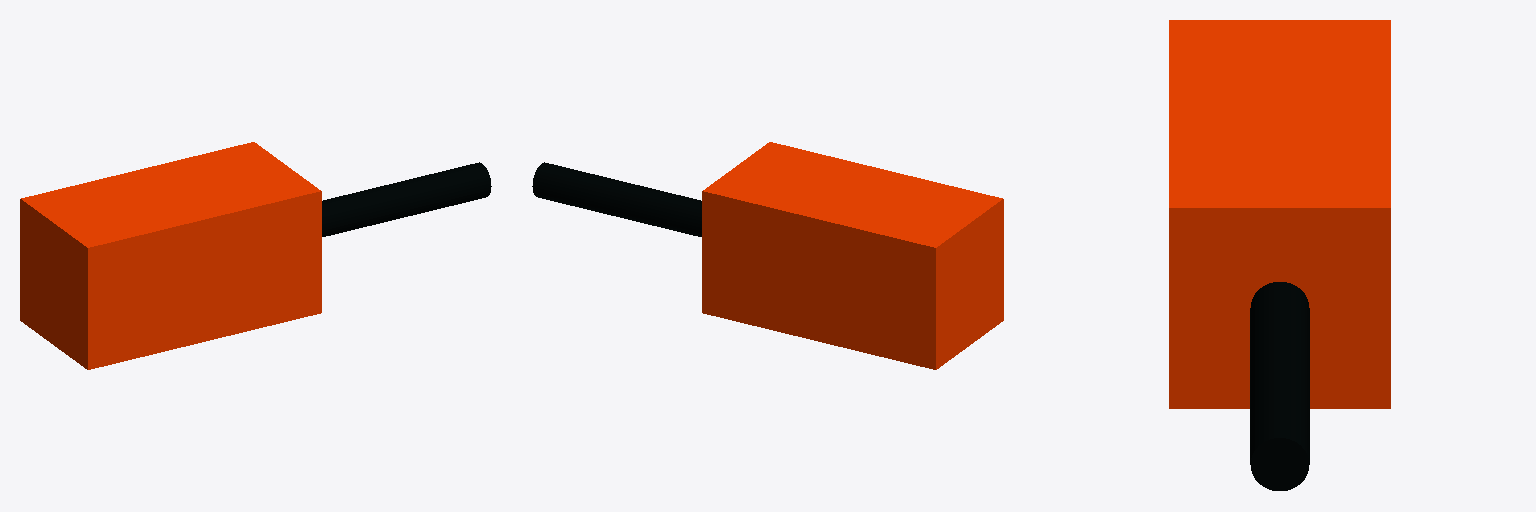
The robot description file, URDF, robot "milling_head":
<?xml version="1.0" ?>
<robot name="milling_head">
  <link name="baseLink">
    <inertial>
      <origin rpy="0 0 0" xyz="0 0 0"/>
       <mass value="0.001"/>
       <inertia ixx="0.01" ixy="0" ixz="0" iyy="0.01" iyz="0" izz="0.01"/>
    </inertial>
    <visual>
      <origin rpy="0 0 0" xyz="-0.1 0.0 0.1"/>
      <geometry>
				<box size="0.3 0.15 0.15"/>
      </geometry>
       <material name="orange">
        <color rgba="0.996078431372549 0.29411764705882354 0.011764705882352941 1.0"/>
      </material>
    </visual>
  </link>
 <joint name="milling_trafo" type="fixed">
		<parent link="baseLink"/>
		<child link="tcp"/>
		<origin xyz="0.3 0.0 0.1" rpy="0 -1.57075 0"/>
	</joint> 

    <link name="tcp">
    <visual>
			<origin xyz="0 0 0.25" rpy="0 0 0"/>
			<material name="almost_black">
            <color rgba="0.027450980392156862 0.050980392156862744 0.050980392156862744 1.0"/>
            </material>
			<geometry>
				<cylinder length="0.50" radius="0.02"/>
			</geometry>
		</visual>
	</link>
</robot>

--- Render facts (derived) ---
Views: 3 orthographic renders of the robot side by side, from view 1: azimuth 30°, elevation 25°; view 2: azimuth 150°, elevation 25°; view 3: azimuth 270°, elevation 25°.
Model milling_head with 2 links and 1 joints (1 fixed), rooted at baseLink, posed all joints at 0.
Links seen in each view (by area): view 1: baseLink, tcp; view 2: baseLink, tcp; view 3: baseLink, tcp.
Boxes of the visible links, x1,y1,x2,y2 form: baseLink: (20, 142, 321, 369); tcp: (322, 162, 491, 236); baseLink: (702, 142, 1003, 369); tcp: (532, 162, 701, 236); baseLink: (1169, 20, 1390, 408); tcp: (1250, 282, 1309, 490).
Size in the robot's own frame: 0.55 by 0.15 by 0.15 metres.
Geometry: primitives only (box / cylinder / sphere), no mesh files.